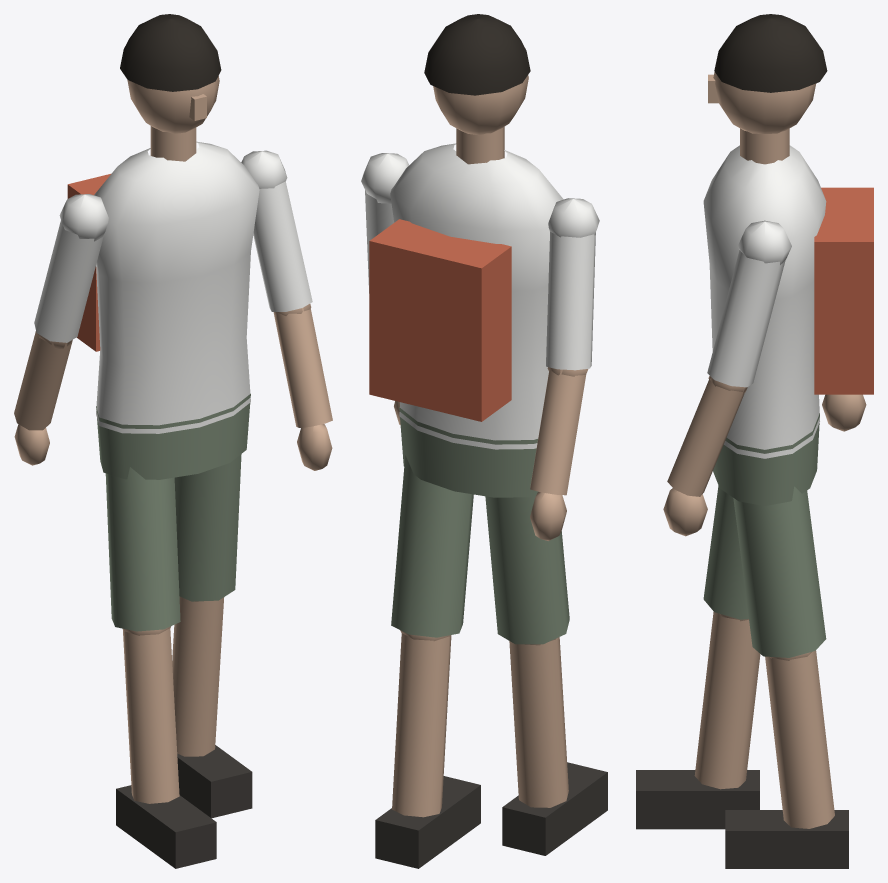
The model's file is person_f.glb.
3 views of the same model, side by side, from view 1: azimuth 30°, elevation 25°; view 2: azimuth 150°, elevation 25°; view 3: azimuth 270°, elevation 25° (orthographic). The views are drawn at different scales.
Visible parts, largest first — view 1: person; view 2: person; view 3: person.
Part boxes in pixels (x1,y1,x2,y2): person: [14, 14, 332, 868]; person: [361, 14, 607, 868]; person: [636, 14, 873, 868].
Bounding box in the file's own units: 0.0293 × 0.0914 × 0.024.
